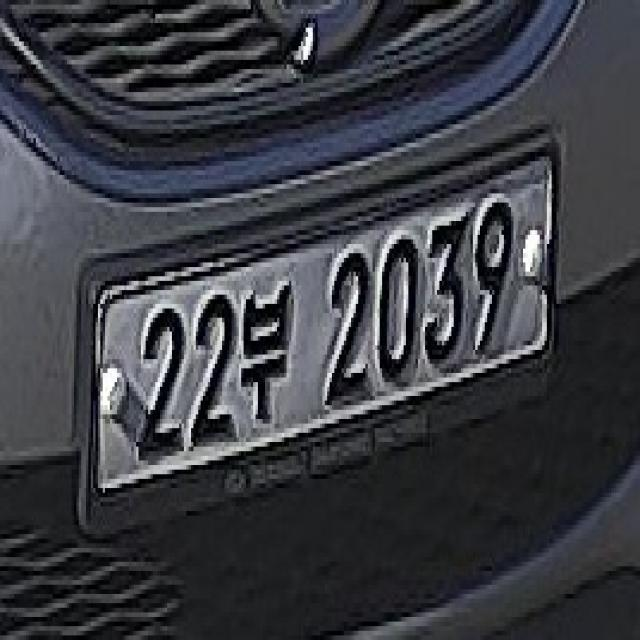0: (377, 218, 424, 386)
2: (131, 296, 190, 468), (317, 240, 377, 409), (191, 277, 238, 455)
3: (423, 198, 472, 374)
9: (468, 190, 524, 358)
bu: (242, 264, 298, 432)
license_plate: (96, 159, 553, 492)
